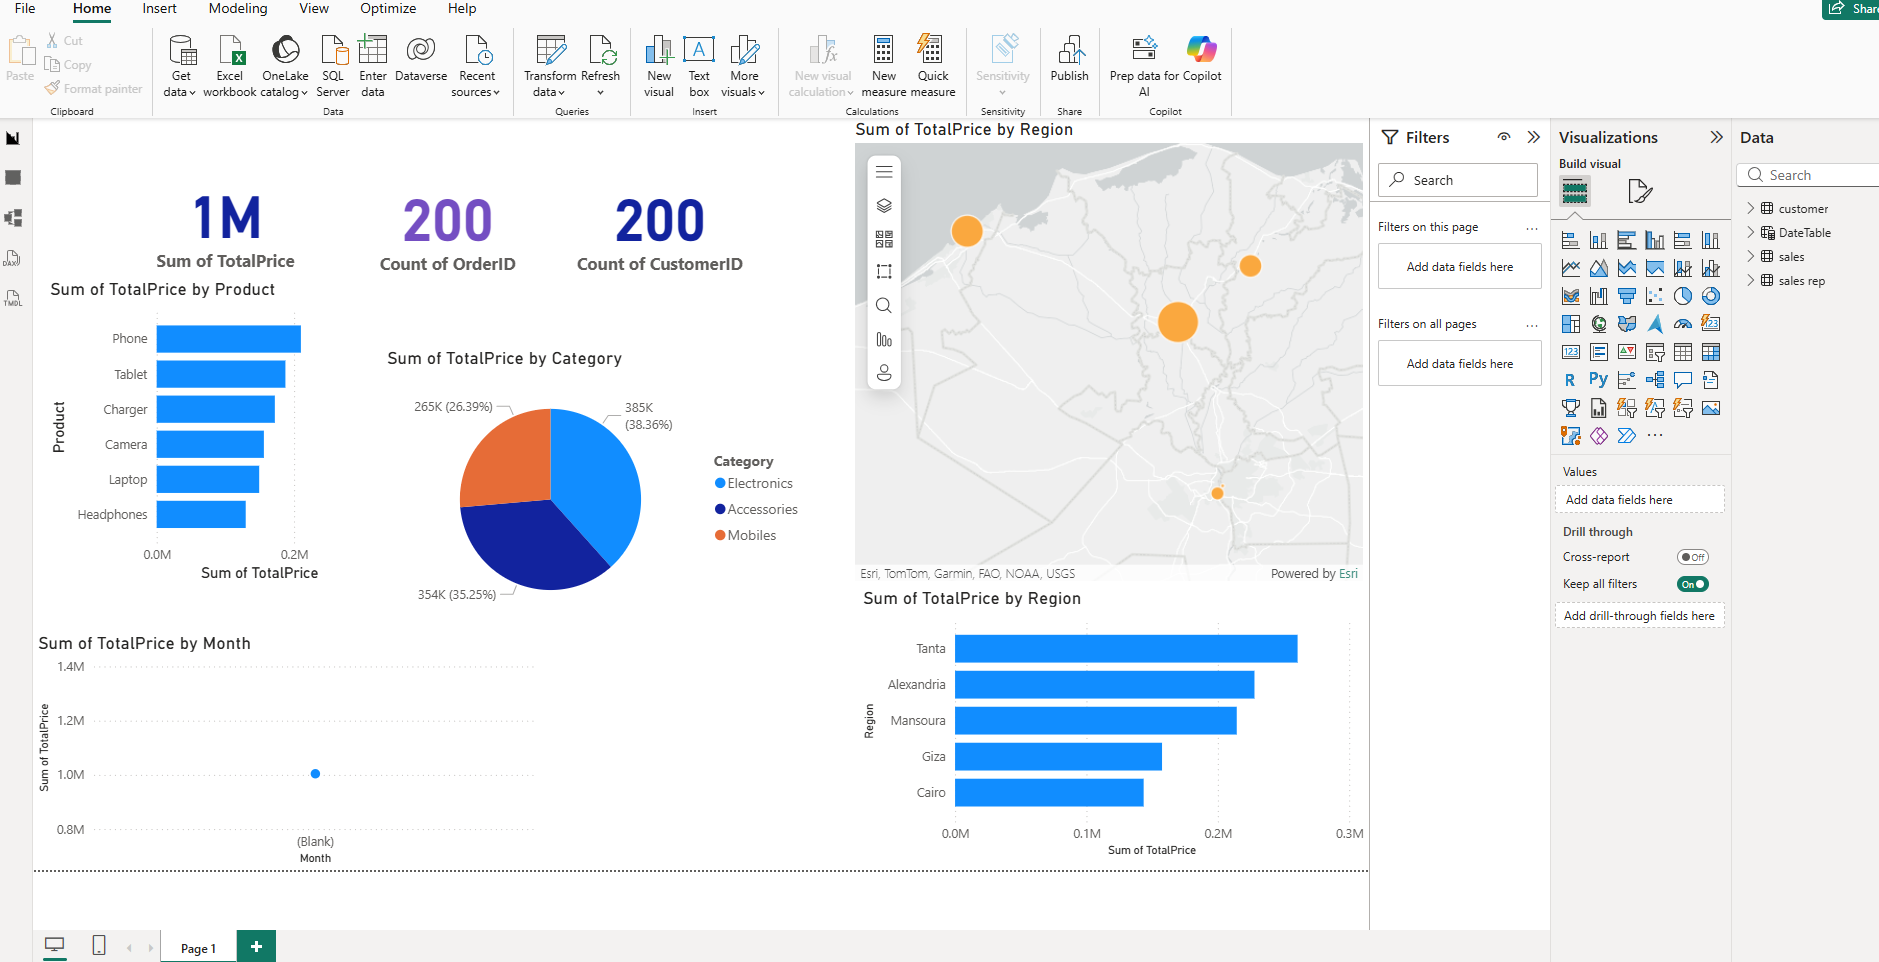

The dashboard page shown, as its layout file describes it:
{"tool":"powerbi","page":{"name":"Page 1","canvas":[1280,720],"ordinal":0},"visuals":[{"type":"barChart","fields":{"Category":["sales.Product"],"Y":["Sum(sales.TotalPrice)"]},"box":[11.3,153.5,323.5,295.8],"z":0},{"type":"lineChart","fields":{"Y":["Sum(sales.TotalPrice)"],"Category":["DateTable.Month"]},"box":[0,492.1,487.1,227.8],"z":1000},{"type":"esriVisual","fields":{"Location":["sales.Region"],"Size":["Sum(sales.TotalPrice)"]},"box":[782.9,0,497.1,449.3],"z":2000},{"type":"clusteredBarChart","fields":{"Category":["sales.Region"],"Y":["Sum(sales.TotalPrice)"]},"box":[790.4,449.3,489.6,263],"z":3000},{"type":"pieChart","fields":{"Category":["sales.Category"],"Y":["Sum(sales.TotalPrice)"]},"box":[334.8,219,412.8,273.1],"z":4000},{"type":"card","fields":{"Values":["Sum(sales.TotalPrice)"]},"box":[103.5,43.1,161.9,110.2],"z":5000},{"type":"card","fields":{"Values":["CountNonNull(sales.OrderID)"]},"box":[308.4,49.1,177.5,104.5],"z":6000},{"type":"card","fields":{"Values":["CountNonNull(sales.CustomerID)"]},"box":[508.5,40.3,183.8,122.1],"z":7000}]}

Visuals, with their boxes on the page's 1280x720 design canvas (x1, y1, x2, y2). These are canvas units, not pixel positions in the 1879x962 screenshot, which may show the page scaled, cropped or inside an application window:
barChart - sales.Product x Sum(sales.TotalPrice): {"left": 11, "top": 154, "right": 335, "bottom": 449}
lineChart - Sum(sales.TotalPrice) x DateTable.Month: {"left": 0, "top": 492, "right": 487, "bottom": 720}
esriVisual - sales.Region x Sum(sales.TotalPrice): {"left": 783, "top": 0, "right": 1280, "bottom": 449}
clusteredBarChart - sales.Region x Sum(sales.TotalPrice): {"left": 790, "top": 449, "right": 1280, "bottom": 712}
pieChart - sales.Category x Sum(sales.TotalPrice): {"left": 335, "top": 219, "right": 748, "bottom": 492}
card - Sum(sales.TotalPrice): {"left": 104, "top": 43, "right": 265, "bottom": 153}
card - CountNonNull(sales.OrderID): {"left": 308, "top": 49, "right": 486, "bottom": 154}
card - CountNonNull(sales.CustomerID): {"left": 508, "top": 40, "right": 692, "bottom": 162}
